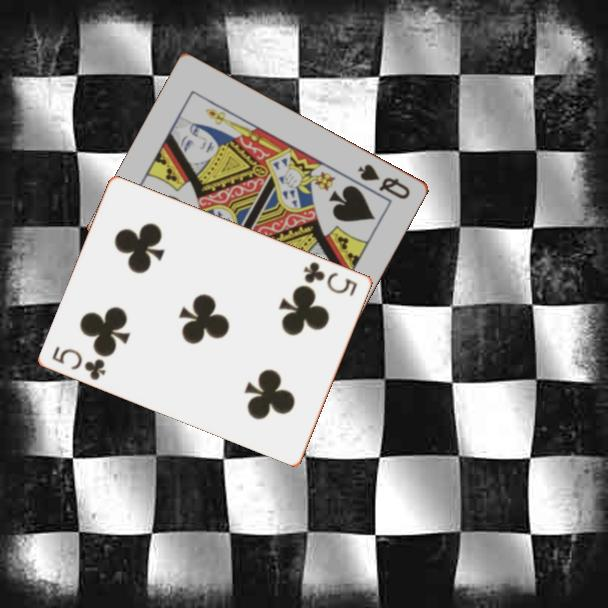c05: (300, 258, 361, 299), (48, 343, 109, 383)
s12: (355, 160, 413, 202)
